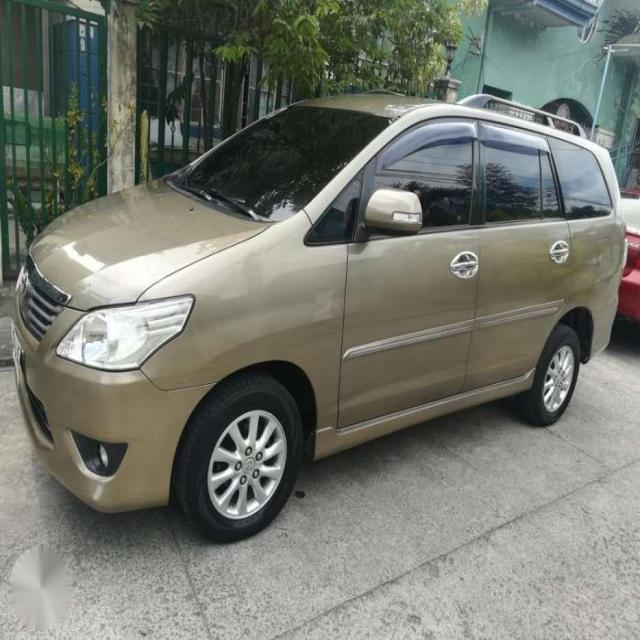light_vehicle: (10, 90, 627, 544)
